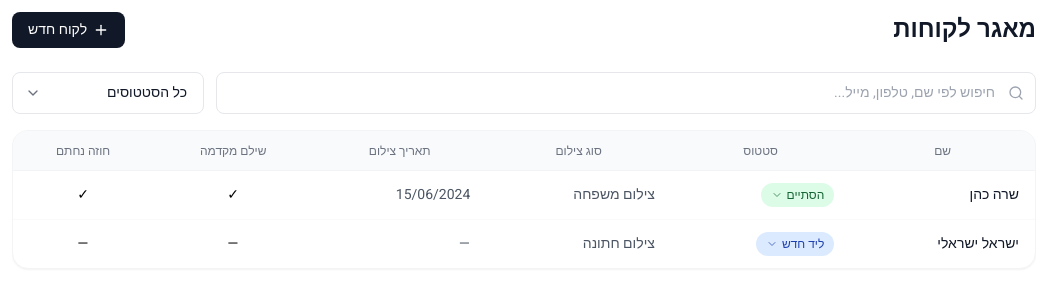
Test: ClientsDatabase › filters clients by phone search
Type "052" into the field with placeholder "חיפוש לפי שם, טלפון, מייל...".
click(626, 93); type("052")  # box [216,72,1036,114]
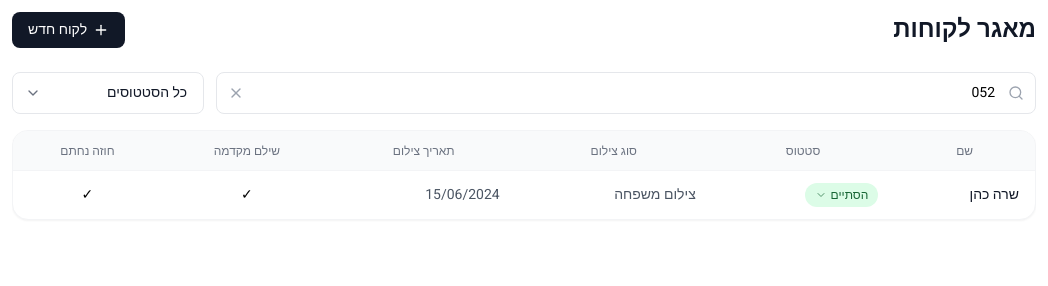
Check: the text "שרה כהן" is shown, box [894,171,1035,219]
Check: the text "ישראל ישראלי" is gone
